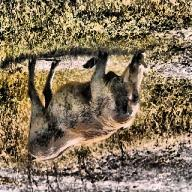boar: (26, 50, 148, 162)
